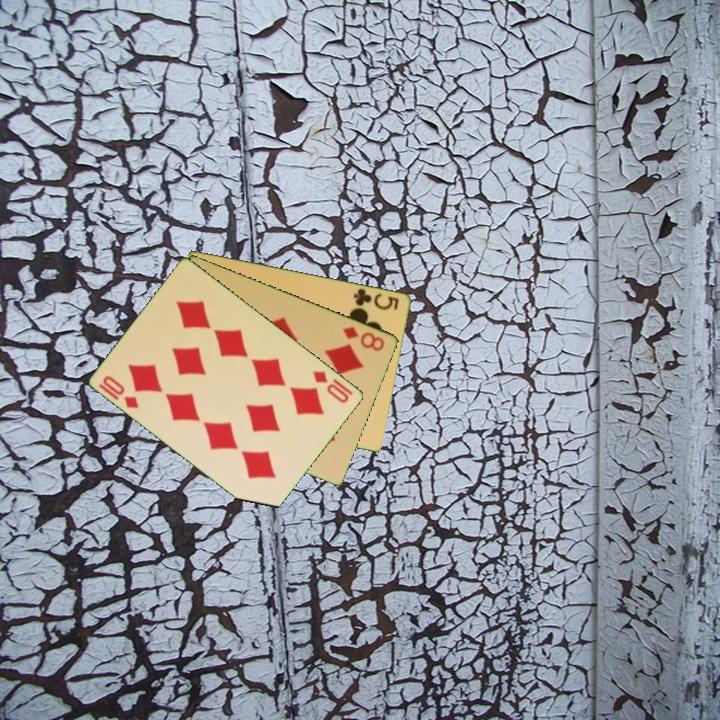10d: (309, 367, 356, 406), (95, 372, 142, 411)
5c: (351, 285, 402, 313)
8d: (339, 323, 388, 354)
